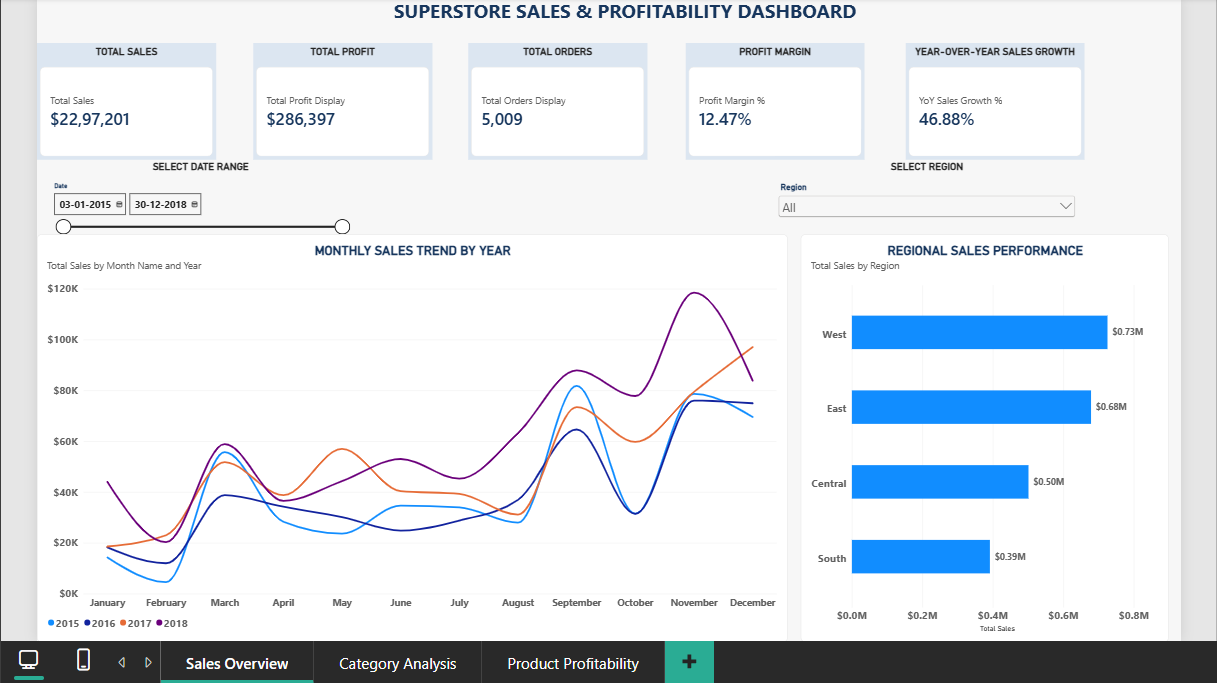

The page's visual inventory and layout, read from the dashboard file:
{"tool":"powerbi","page":{"name":"Sales Overview","canvas":[1920,1080],"ordinal":0},"visuals":[{"type":"cardVisual","title":"TOTAL SALES","fields":{"Data":["Fact Orders.Total Sales"]},"box":[0,76.3,300.6,195.6],"z":0},{"type":"cardVisual","title":"TOTAL PROFIT","fields":{"Data":["Fact Orders.Total Profit Display"]},"box":[362.6,76.3,300.6,195.6],"z":1000},{"type":"cardVisual","title":"TOTAL ORDERS","fields":{"Data":["Fact Orders.Total Orders Display"]},"box":[723.8,75.5,300.6,195.6],"z":2000},{"type":"cardVisual","title":"PROFIT MARGIN","fields":{"Data":["Fact Orders.Profit Margin %"]},"box":[1088.8,75.5,300,195.6],"z":3000},{"type":"lineChart","title":"MONTHLY SALES TREND BY YEAR","fields":{"Category":["Dim Date Calendar.Month Name"],"Series":["Dim Date Calendar.Year"],"Y":["Fact Orders.Total Sales"]},"box":[0,396,1259.6,684.7],"z":4000},{"type":"clusteredBarChart","title":"REGIONAL SALES PERFORMANCE","fields":{"Category":["Fact Orders.Region"],"Y":["Fact Orders.Total Sales"]},"box":[1281.1,396,617.9,684.7],"z":5000},{"type":"slicer","title":"SELECT DATE RANGE","fields":{"Values":["Dim Date Calendar.Date"]},"box":[21,272.7,507.7,123.8],"z":6000},{"type":"slicer","title":"SELECT REGION","fields":{"Values":["Fact Orders.Region"]},"box":[1239.9,272.7,507.7,115.4],"z":7000},{"type":"cardVisual","title":"YEAR-OVER-YEAR SALES GROWTH","fields":{"Data":["Fact Orders.YoY Sales Growth %"]},"box":[1458.1,75.5,300,195.6],"z":8000},{"type":"textbox","box":[73.4,0,1827.3,60.8],"z":9000}]}

Visuals, with their boxes on the page's 1920x1080 design canvas (x1, y1, x2, y2). These are canvas units, not pixel positions in the 1217x683 screenshot, which may show the page scaled, cropped or inside an application window:
"TOTAL SALES" cardVisual: l=0, t=76, r=301, b=272
"TOTAL PROFIT" cardVisual: l=363, t=76, r=663, b=272
"TOTAL ORDERS" cardVisual: l=724, t=76, r=1024, b=271
"PROFIT MARGIN" cardVisual: l=1089, t=76, r=1389, b=271
"MONTHLY SALES TREND BY YEAR" lineChart: l=0, t=396, r=1260, b=1081
"REGIONAL SALES PERFORMANCE" clusteredBarChart: l=1281, t=396, r=1899, b=1081
"SELECT DATE RANGE" slicer: l=21, t=273, r=529, b=396
"SELECT REGION" slicer: l=1240, t=273, r=1748, b=388
"YEAR-OVER-YEAR SALES GROWTH" cardVisual: l=1458, t=76, r=1758, b=271
textbox: l=73, t=0, r=1901, b=61
